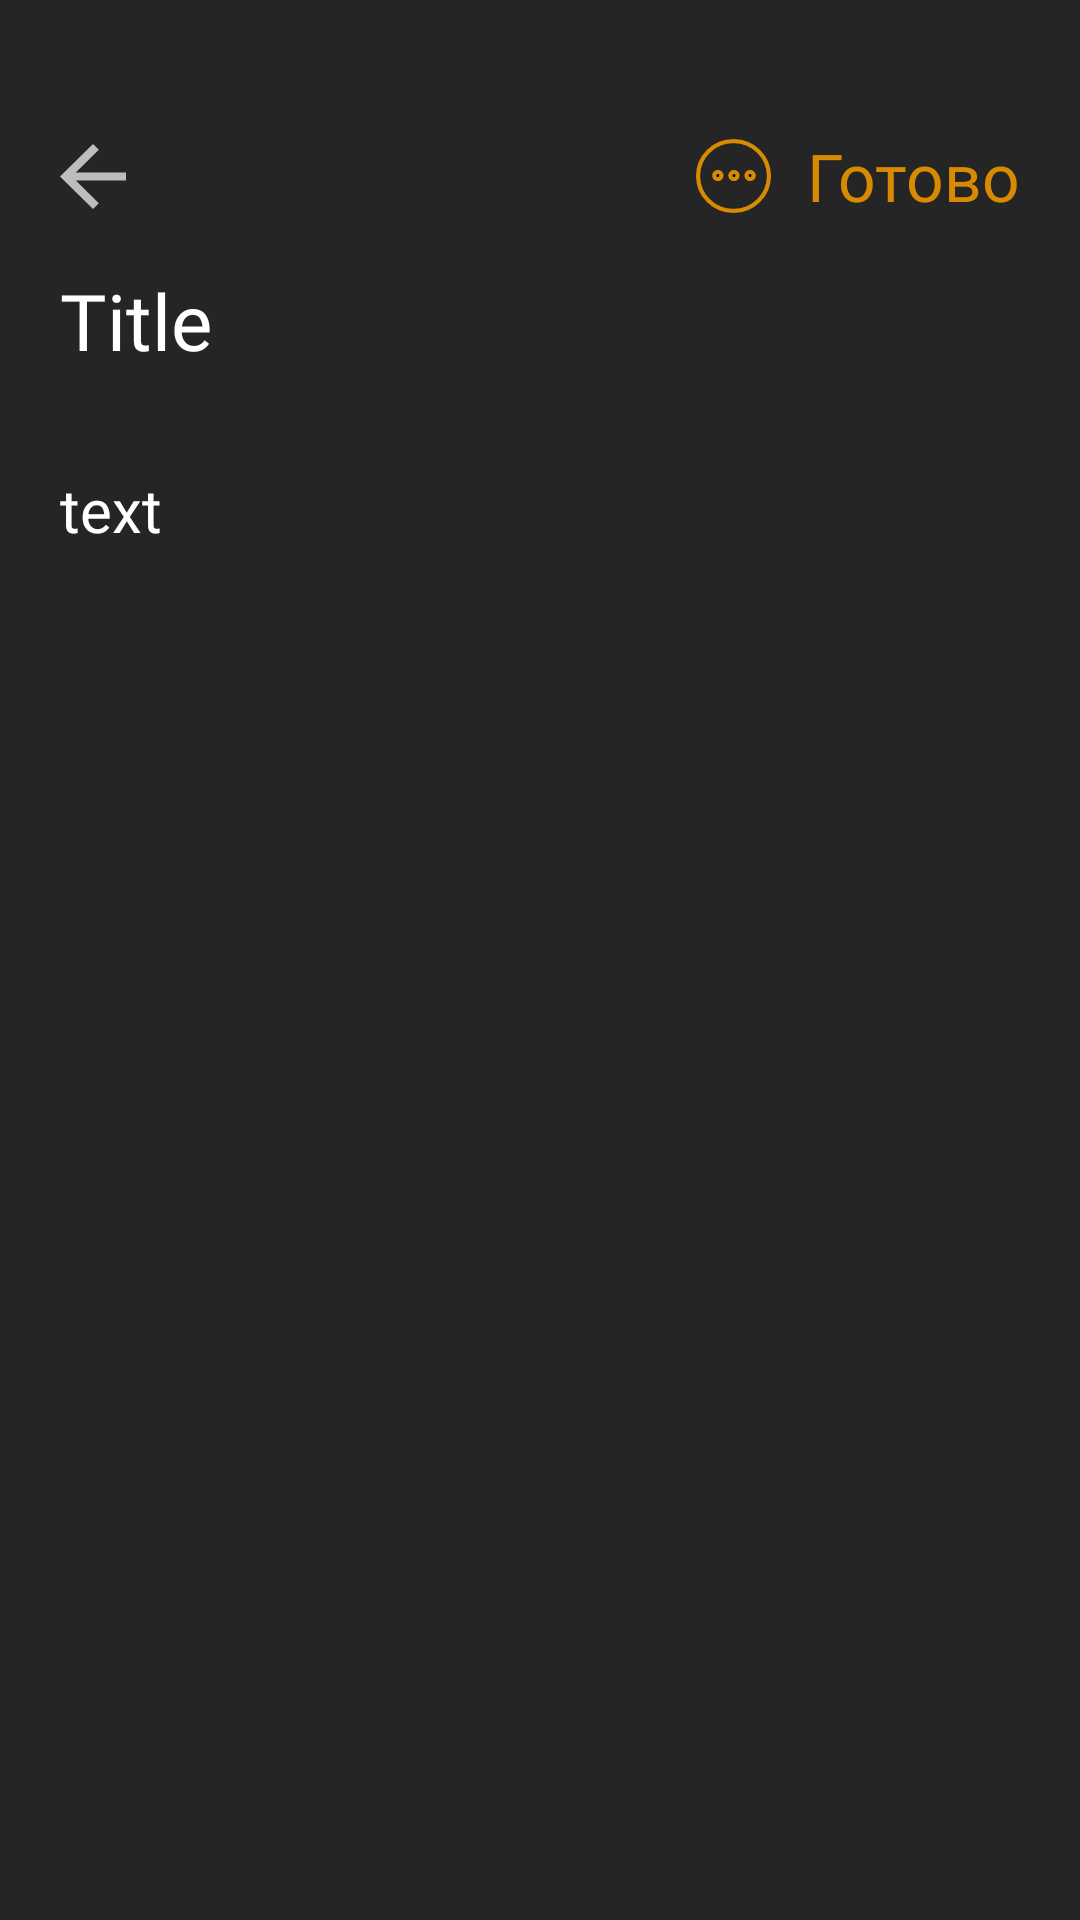

Where icons sit on this 1080 x 1920 app screen, as (x1, y1, x2, y2):
back: (60, 144, 126, 209)
three points: (696, 139, 771, 213)
